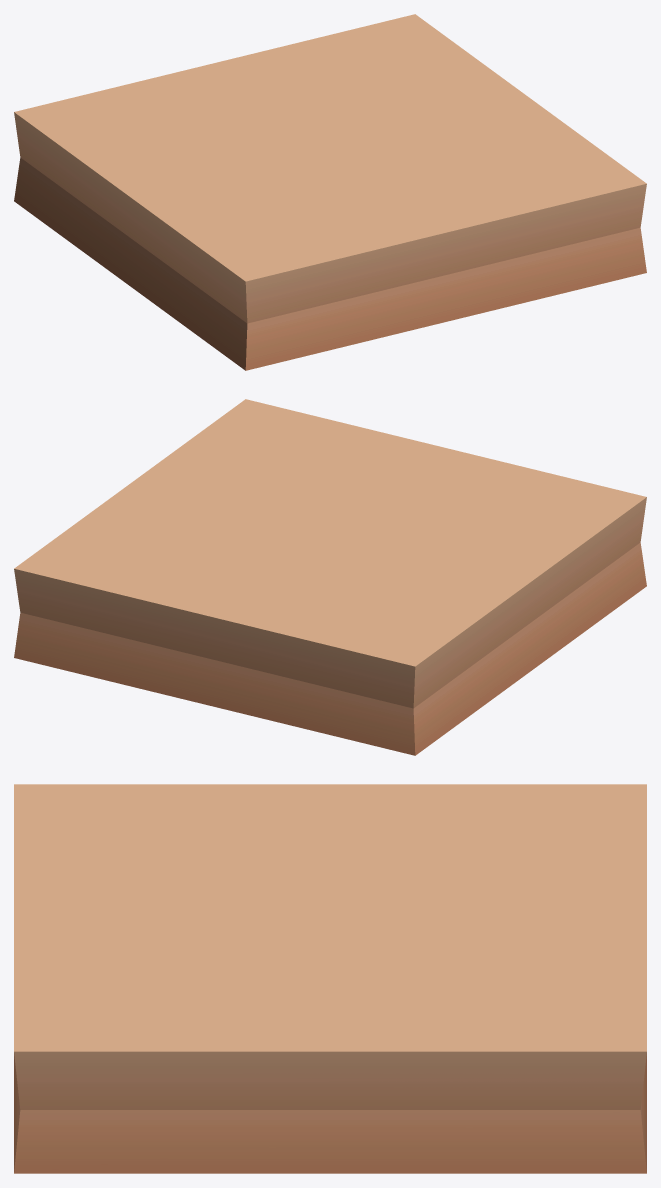
Rendered from kenney-modular-buildings-roof-flat-detail-c.glb.
3 renders of one model, top to bottom at view 1: azimuth 30°, elevation 25°; view 2: azimuth 150°, elevation 25°; view 3: azimuth 270°, elevation 25°, orthographic. The views are drawn at different scales.
Visible parts, largest first — view 1: roof-flat-detail-c; view 2: roof-flat-detail-c; view 3: roof-flat-detail-c.
Part boxes in pixels (x1,y1,x2,y2): roof-flat-detail-c: [14, 14, 646, 370]; roof-flat-detail-c: [14, 399, 646, 755]; roof-flat-detail-c: [14, 784, 646, 1173].
Size of the model in its own units: 1 by 0.2125 by 1.
Materials: 1 (1 with a texture image).
